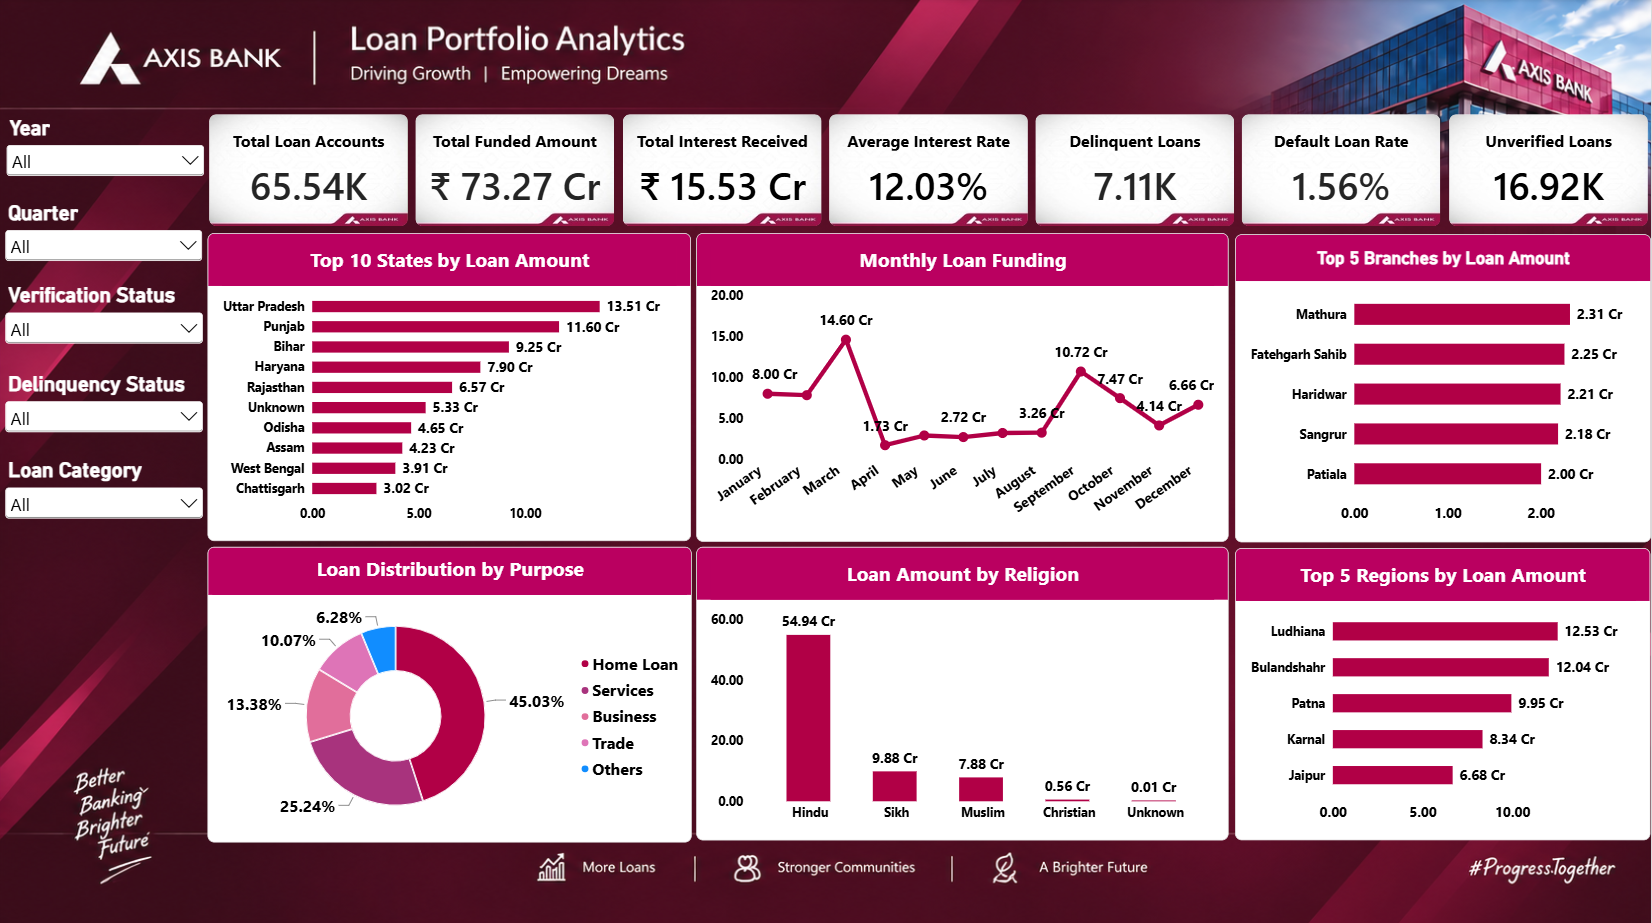

What the dashboard file says about the page in this screenshot:
{"tool":"powerbi","page":{"name":"Page 1","canvas":[1920,1080],"ordinal":0},"visuals":[{"type":"barChart","title":"Top 10 States by Loan Amount","fields":{"Y":["Fact_Loan1.Funded Amount Cr"],"Category":["Dim_Branch3.State Name"]},"box":[240.7,272.9,562.3,358.5],"z":0,"group":"g1"},{"type":"cardVisual","fields":{"Data":["Fact_Loan1.Funded Amount Cr"]},"box":[478.9,135.5,241,130],"z":1000},{"type":"donutChart","title":"Loan Distribution by Purpose","fields":{"Y":["Fact_Loan1.Funded Amount Cr"],"Category":["Fact_Loan1.Purpose Category"]},"box":[241.2,637.7,563.4,343.6],"z":1000,"group":"g1"},{"type":"cardVisual","fields":{"Data":["Fact_Loan1.delinquent loan account"]},"box":[1199.6,135.5,241,130],"z":2000},{"type":"columnChart","title":"Loan Amount by Religion","fields":{"Y":["Fact_Loan1.Funded Amount Cr"],"Category":["Dim_Client2.Religion"]},"box":[809.8,637.7,619.2,341.9],"z":2000,"group":"g1"},{"type":"cardVisual","fields":{"Data":["Count(Fact_Loan1.Account ID)"]},"box":[238.7,135.5,241,130],"z":3000},{"type":"lineChart","title":"Monthly Loan Funding","fields":{"Y":["Fact_Loan1.Funded Amount Cr"],"Category":["Dim_Date4.Disbursement Date.Variation.Date Hierarchy.Month"]},"box":[809.2,272.9,619.4,359.1],"z":3000,"group":"g1"},{"type":"cardVisual","fields":{"Data":["Fact_Loan1.total int rec Cr"]},"box":[719.2,135.5,241,130],"z":4000},{"type":"barChart","title":"Top 5 Branches by Loan Amount","fields":{"Category":["Dim_Branch3.Branch Name"],"Y":["Fact_Loan1.Funded Amount Cr"]},"box":[1436.2,273.8,483.6,358.2],"z":4000,"group":"g1"},{"type":"group","id":"g1","title":"Group 2","box":[240.7,272.9,1679.1,708.4],"z":5000},{"type":"clusteredBarChart","title":"Top 5 Regions by Loan Amount","fields":{"Category":["Dim_Branch3.Region Name"],"Y":["Fact_Loan1.Funded Amount Cr"]},"box":[1436,639.4,483.1,340.1],"z":5000,"group":"g1"},{"type":"cardVisual","fields":{"Data":["Fact_Loan1.verified loans"]},"box":[1680.1,135.5,241,130],"z":6000},{"type":"cardVisual","fields":{"Data":["Avg(Fact_Loan1.Int Rate)"]},"box":[959.4,135.5,241,130],"z":7000},{"type":"cardVisual","fields":{"Data":["Fact_Loan1.default loan rate"]},"box":[1439.8,135.5,241,130],"z":8000},{"type":"slicer","fields":{"Values":["Fact_Loan1.Verification Status"]},"box":[1.8,331.4,239.3,89.3],"z":9000},{"type":"slicer","fields":{"Values":["Fact_Loan1.Is Delinquent Loan"]},"box":[1.8,434.6,239.3,89.3],"z":10000},{"type":"slicer","fields":{"Values":["Fact_Loan1.Purpose Category"]},"box":[1.8,534.7,239.3,89.3],"z":11000},{"type":"slicer","fields":{"Values":["Dim_Date4.Year"]},"box":[2.9,136.7,239.3,89.3],"z":12000},{"type":"slicer","fields":{"Values":["Dim_Date4.Quarter"]},"box":[1.5,235.5,238.5,91.6],"z":13000}]}

Visuals, with their boxes in screenshot pixels (x1, y1, x2, y2), scaled from the page's 1920x1080 canvas onto the 1652x923 screenshot:
"Top 10 States by Loan Amount" barChart: crop(207, 233, 691, 540)
cardVisual - Fact_Loan1.Funded Amount Cr: crop(412, 116, 619, 227)
"Loan Distribution by Purpose" donutChart: crop(208, 545, 692, 839)
cardVisual - Fact_Loan1.delinquent loan account: crop(1032, 116, 1240, 227)
"Loan Amount by Religion" columnChart: crop(697, 545, 1230, 837)
cardVisual - Count(Fact_Loan1.Account ID): crop(205, 116, 413, 227)
"Monthly Loan Funding" lineChart: crop(696, 233, 1229, 540)
cardVisual - Fact_Loan1.total int rec Cr: crop(619, 116, 826, 227)
"Top 5 Branches by Loan Amount" barChart: crop(1236, 234, 1651, 540)
"Group 2" group: crop(207, 233, 1651, 839)
"Top 5 Regions by Loan Amount" clusteredBarChart: crop(1236, 546, 1651, 837)
cardVisual - Fact_Loan1.verified loans: crop(1446, 116, 1651, 227)
cardVisual - Avg(Fact_Loan1.Int Rate): crop(825, 116, 1033, 227)
cardVisual - Fact_Loan1.default loan rate: crop(1239, 116, 1446, 227)
slicer - Fact_Loan1.Verification Status: crop(2, 283, 207, 360)
slicer - Fact_Loan1.Is Delinquent Loan: crop(2, 371, 207, 448)
slicer - Fact_Loan1.Purpose Category: crop(2, 457, 207, 533)
slicer - Dim_Date4.Year: crop(2, 117, 208, 193)
slicer - Dim_Date4.Quarter: crop(1, 201, 206, 280)
